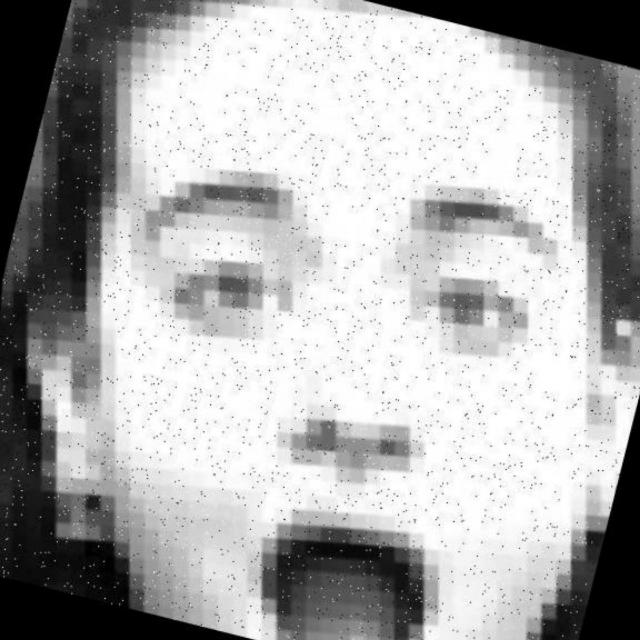Surprised: (23, 86, 640, 640)
